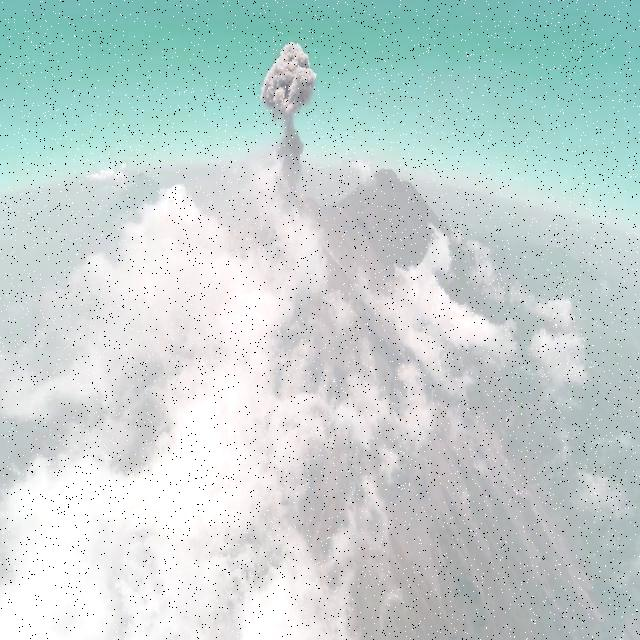Plume: (260, 42, 314, 201)
